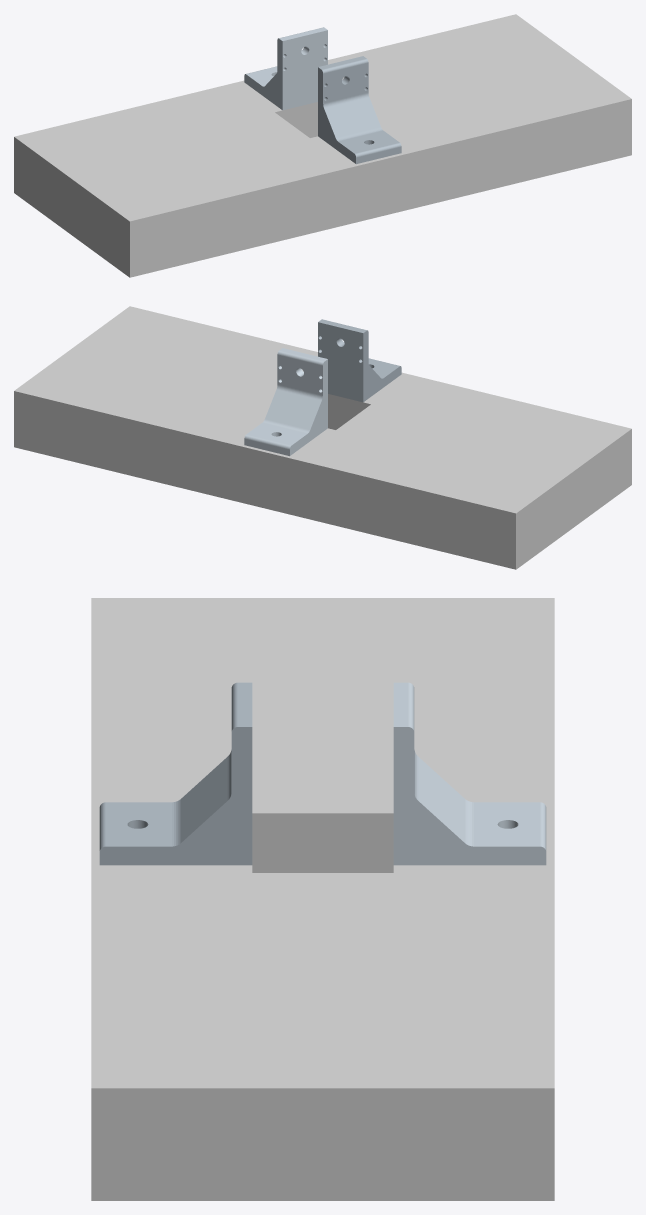
Rendered from basem.dae.
The picture shows the model from 3 angles, top to bottom: view 1: azimuth 30°, elevation 25°; view 2: azimuth 150°, elevation 25°; view 3: azimuth 270°, elevation 25°; orthographic projection. The views are drawn at different scales.
Visible parts, largest first — view 1: Part 1 (×3); view 2: Part 1 (×3); view 3: Part 1 (×3).
Part boxes in pixels (left/top/right/bottom): Part 1 (×3): left=14, top=14, right=631, bottom=277; Part 1 (×3): left=14, top=306, right=631, bottom=569; Part 1 (×3): left=91, top=598, right=554, bottom=1200.
Bounding box in the file's own units: 0.448 × 0.179 × 0.107.
